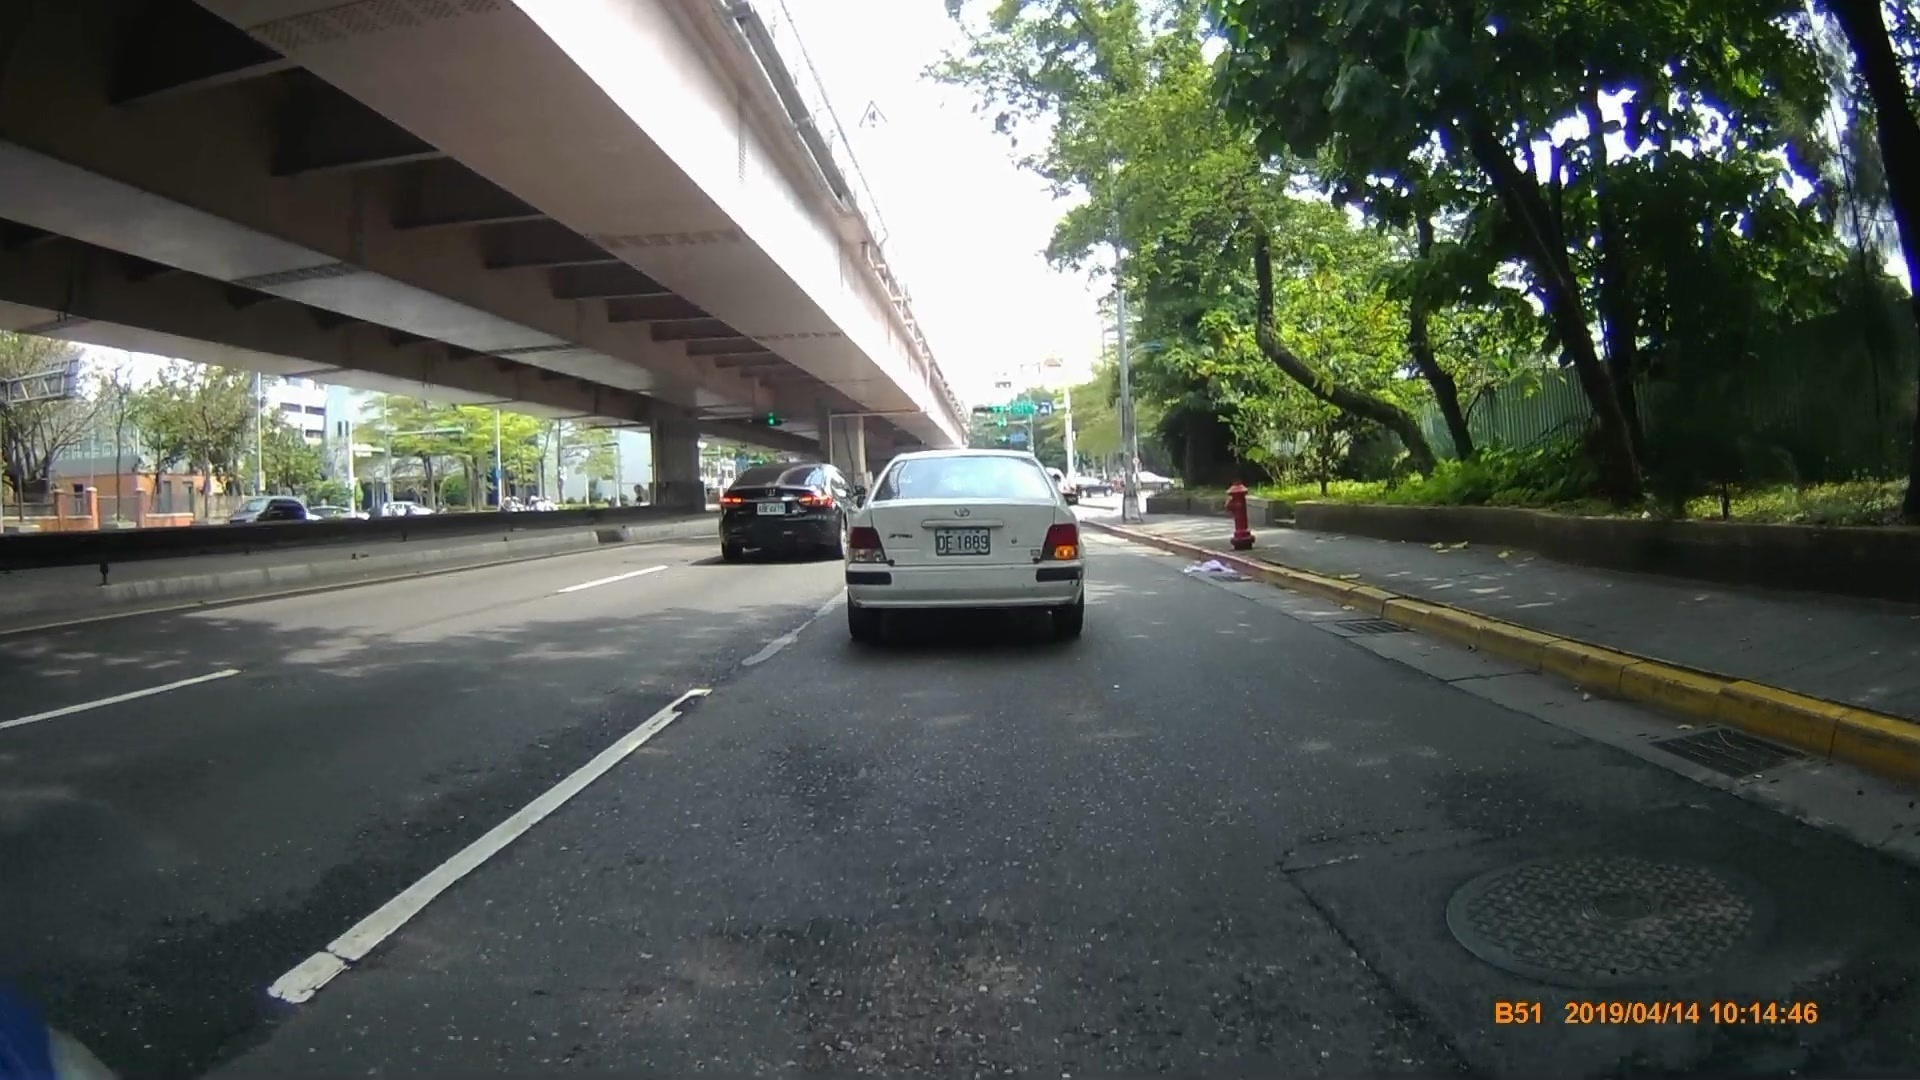License_plate: (933, 525, 996, 556), (755, 499, 789, 521)
